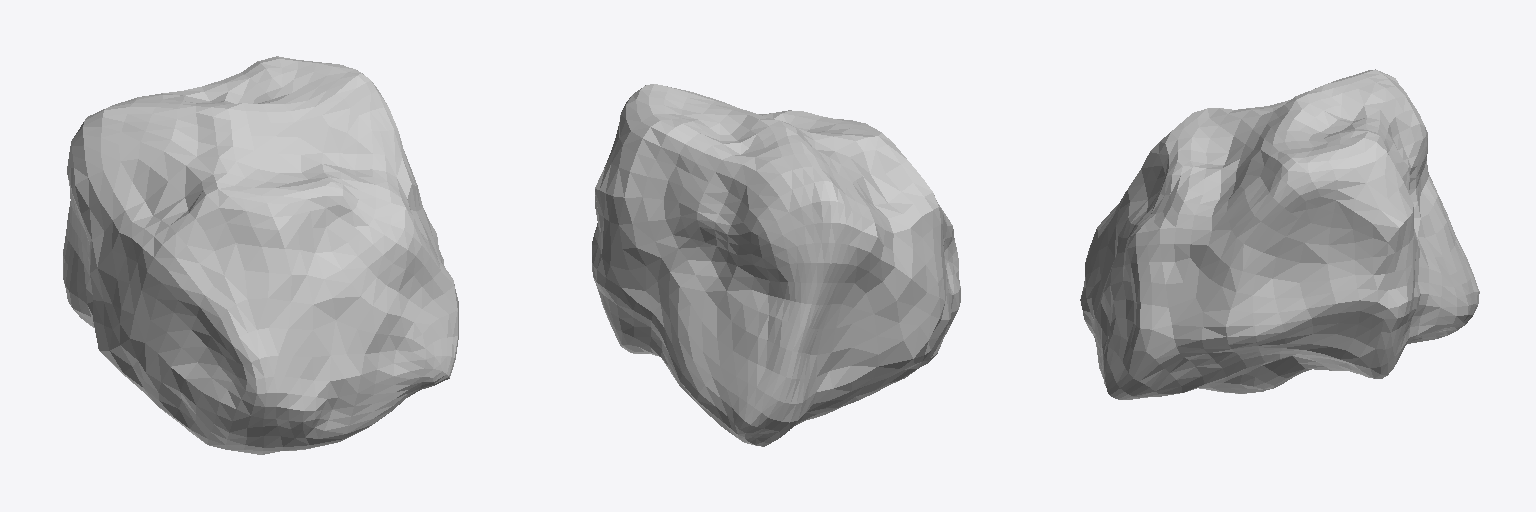
The model's file is asteroide7.obj.
3 renders of one model, left to right at view 1: azimuth 30°, elevation 25°; view 2: azimuth 150°, elevation 25°; view 3: azimuth 270°, elevation 25°, orthographic.
Visible parts, largest first — view 1: Asteroid_no_7; view 2: Asteroid_no_7; view 3: Asteroid_no_7.
Part boxes in pixels (x1,y1,x2,y2): Asteroid_no_7: (63,56,458,454); Asteroid_no_7: (592,84,960,446); Asteroid_no_7: (1080,69,1479,399).
Size of the model in its own units: 7.35 by 6.86 by 8.26.